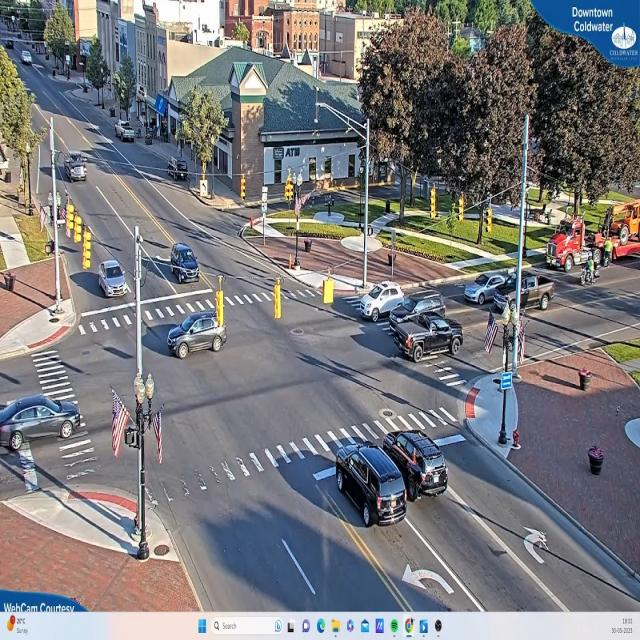car: (329, 439, 411, 528), (0, 397, 84, 453), (383, 431, 449, 497), (390, 316, 464, 362), (168, 312, 229, 358), (390, 291, 452, 325), (357, 284, 408, 325), (497, 278, 555, 312), (463, 268, 504, 308), (96, 259, 130, 298), (170, 244, 201, 282), (117, 122, 137, 145), (67, 164, 86, 182), (22, 52, 33, 66)
